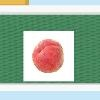raw: (30, 38, 65, 75)
